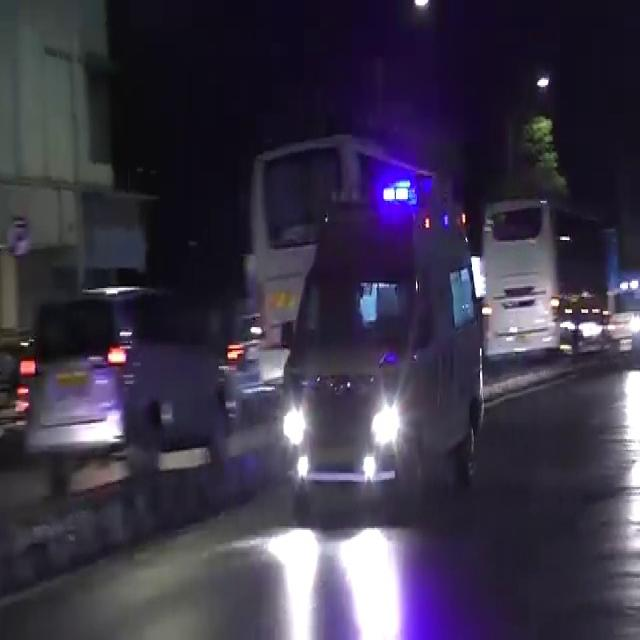ambulance: (285, 169, 504, 510)
